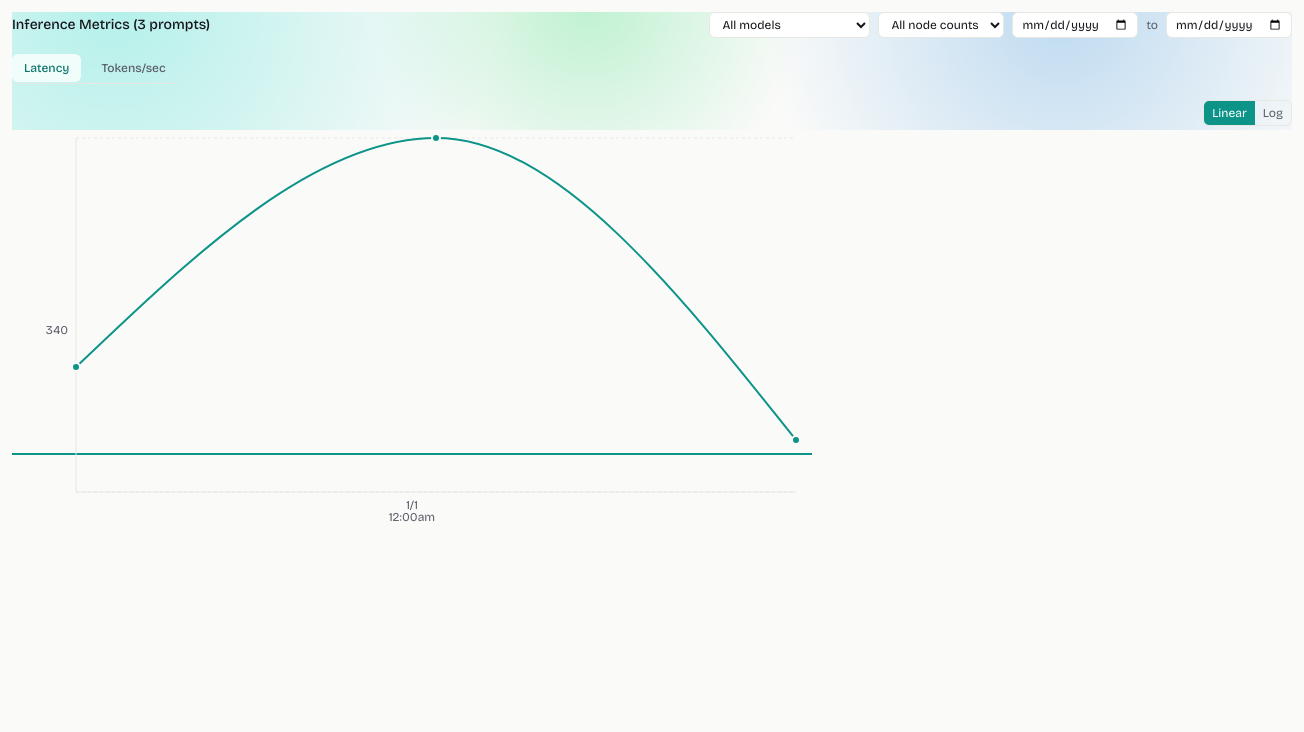
it: MetricsPanel › filters by model
Select "dummy-mamba-tiny" in the dropdown named "Filter by model" at (790, 25), box [709,12,870,38]
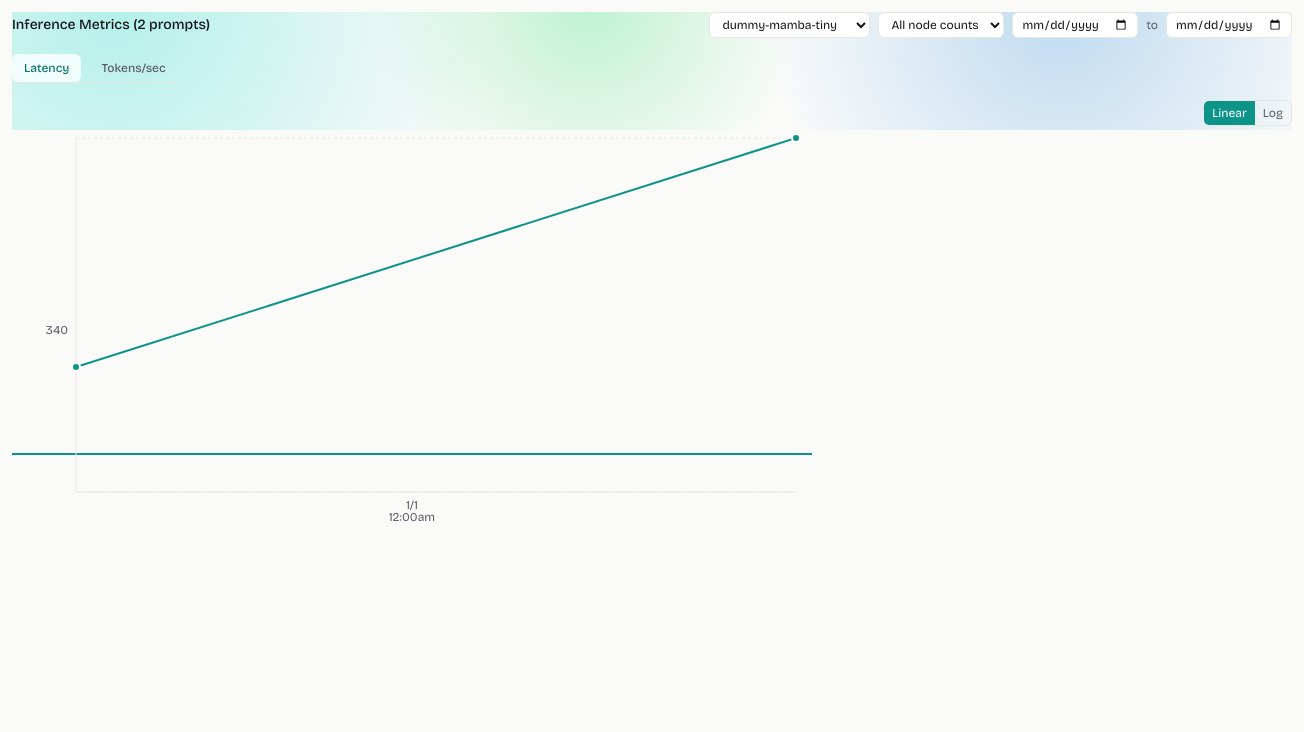
Check: the heading "Inference Metrics (2 prompts)" is shown, box [12,15,210,35]
